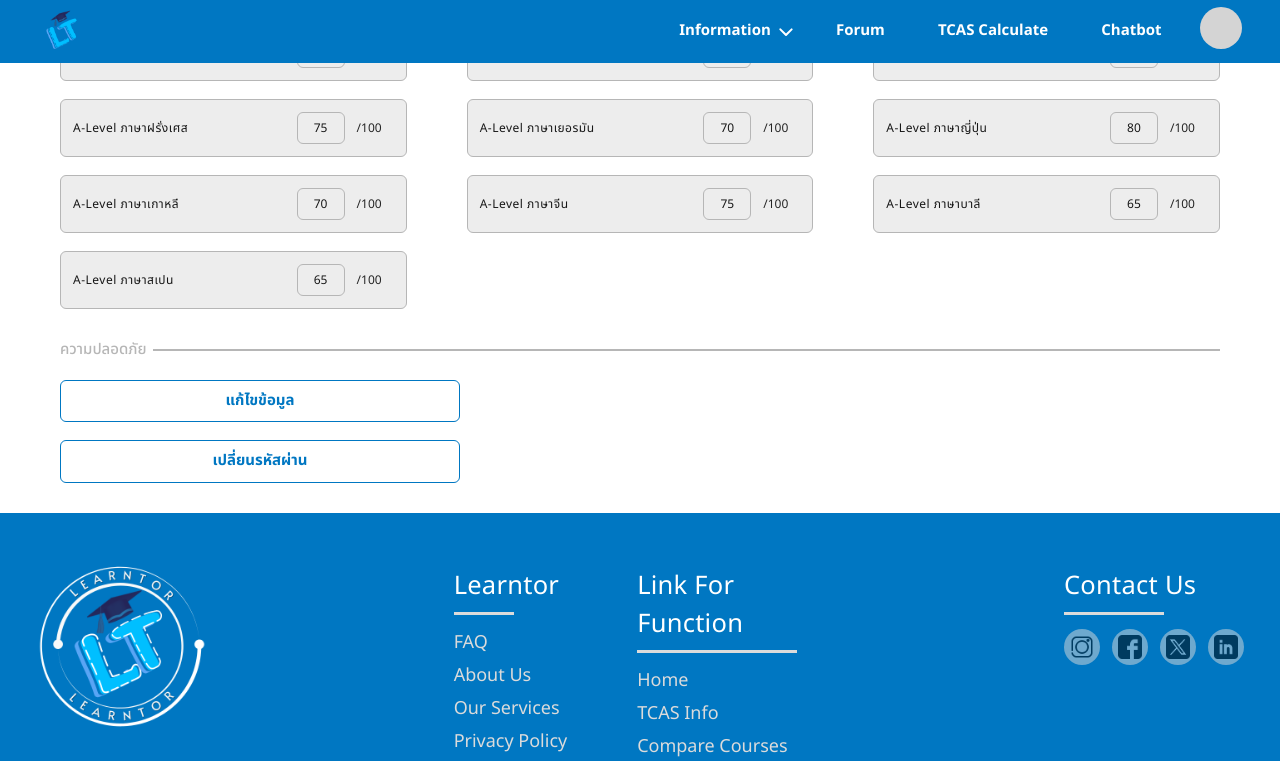
UserProfile Component › allows editing profile when edit button is clicked
The image size is (1280, 761).
(page scrolled)
Click the button "แก้ไขข้อมูล" at (260, 401), box [60,380,460,422]
(page scrolled)
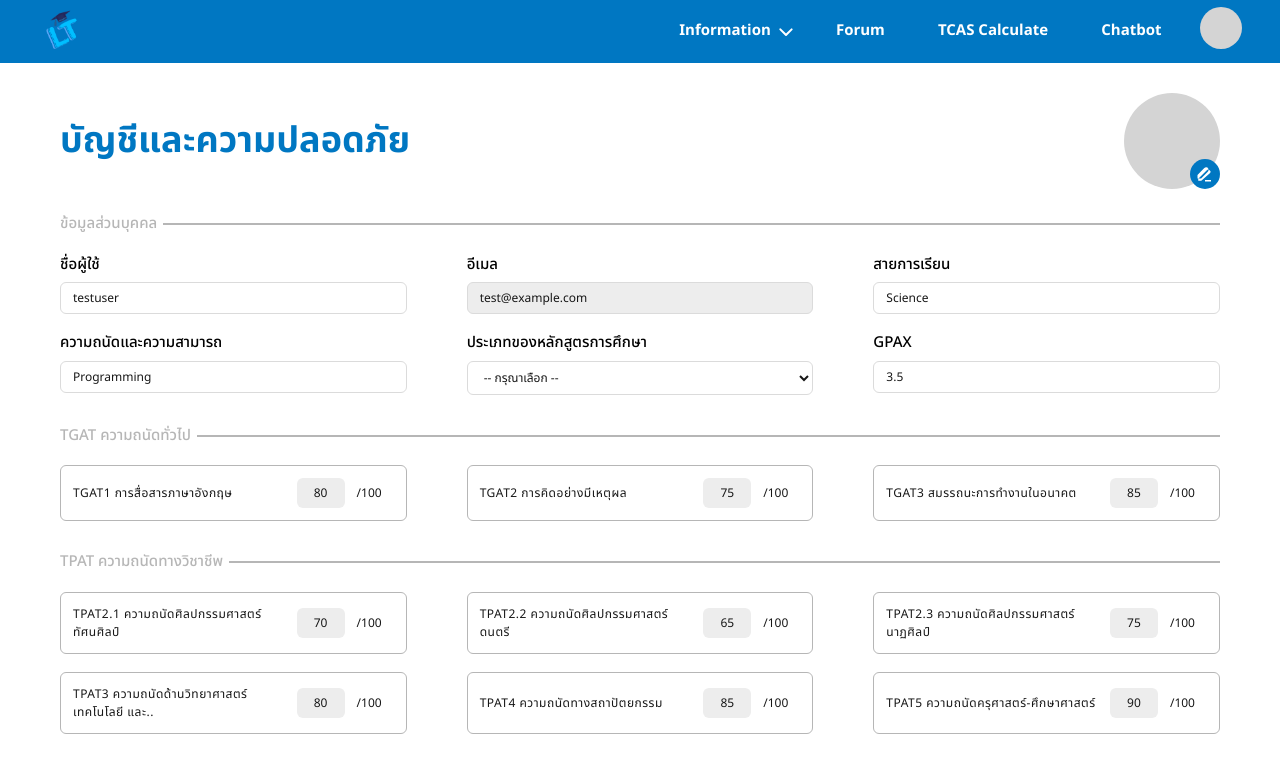
expect the field showing "testuser" below "ชื่อผู้ใช้" is enabled: met, box [60,282,407,314]
expect the field showing "Science" below "สายการเรียน" is enabled: met, box [873,282,1220,314]
